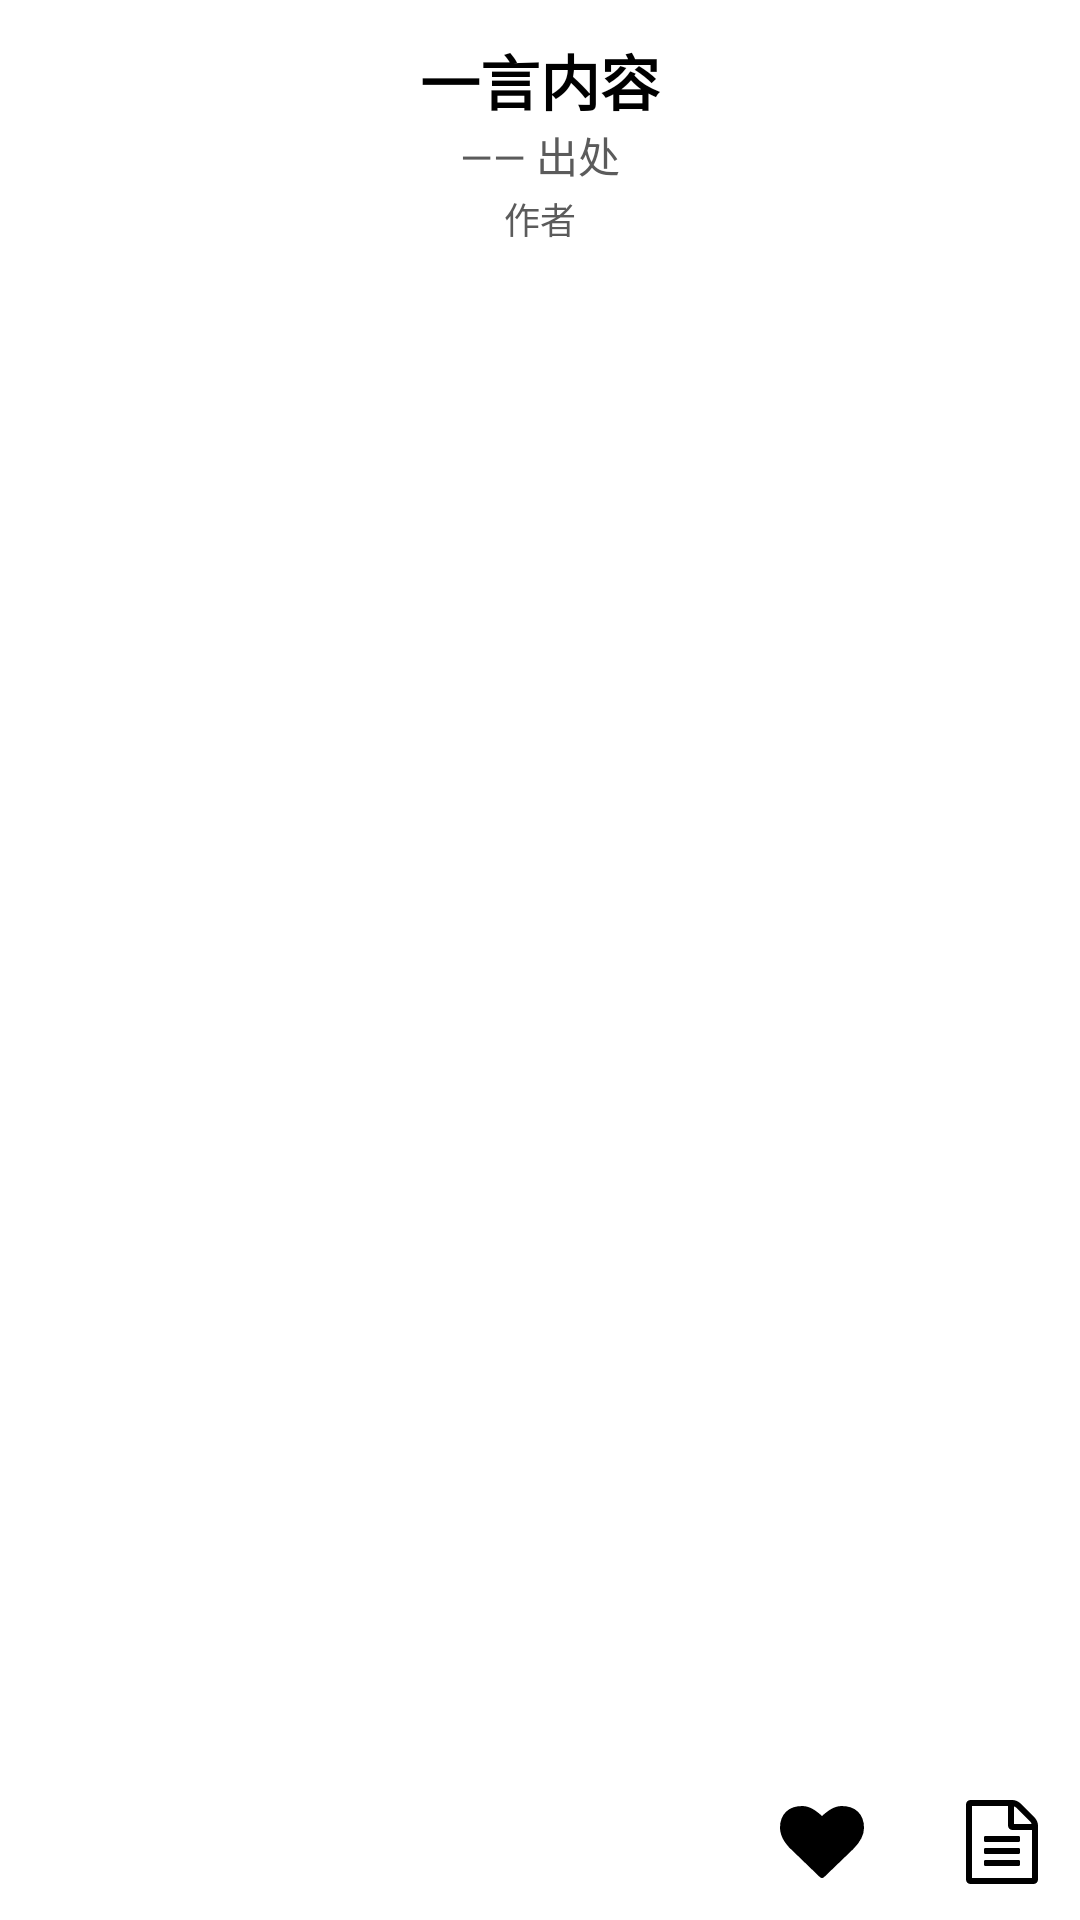

Named icons in this screenshot (1080px×1920px) and their centers, (x=x, y=y):
收藏: (x=822, y=1842)
